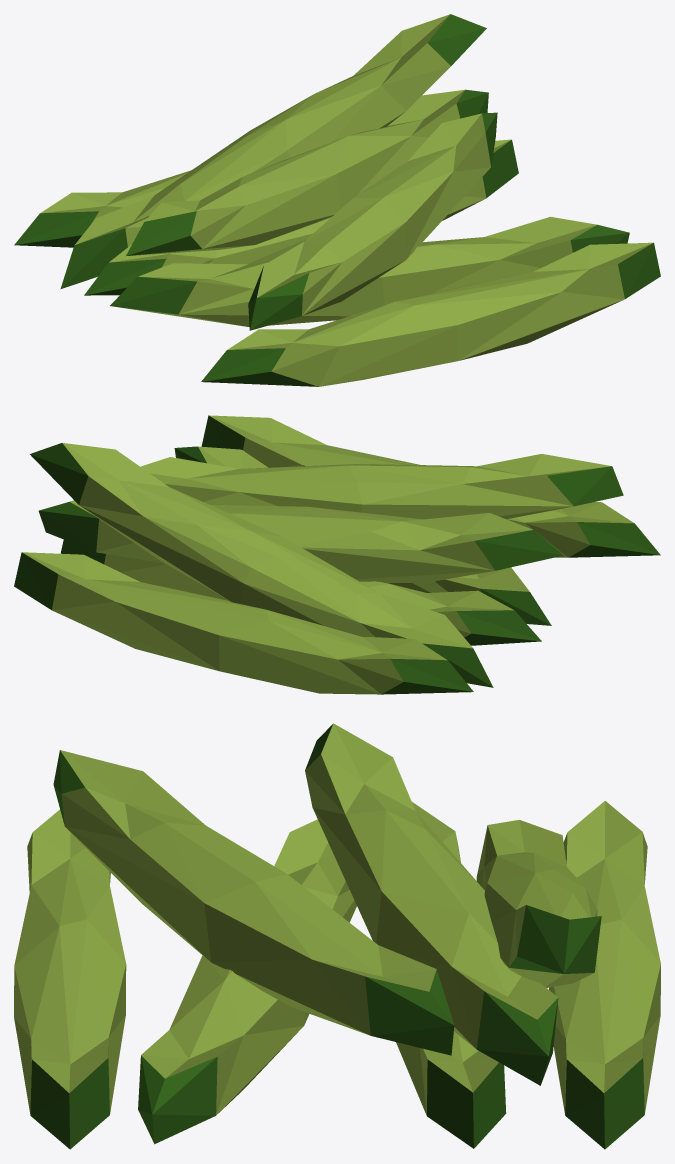
Rendered from Pile of Lettuce.fbx.
3 views of the same model, one above another, from view 1: azimuth 30°, elevation 25°; view 2: azimuth 150°, elevation 25°; view 3: azimuth 270°, elevation 25° (orthographic). The views are drawn at different scales.
Parts seen in each view (by area): view 1: Pile of Lettuce; view 2: Pile of Lettuce; view 3: Pile of Lettuce.
Boxes of the visible parts, bbox=[...] form: Pile of Lettuce: bbox=[14, 14, 660, 386]; Pile of Lettuce: bbox=[14, 415, 660, 694]; Pile of Lettuce: bbox=[14, 723, 660, 1149].
Bounding box in the file's own units: 20.68 × 7.46 × 17.61.
